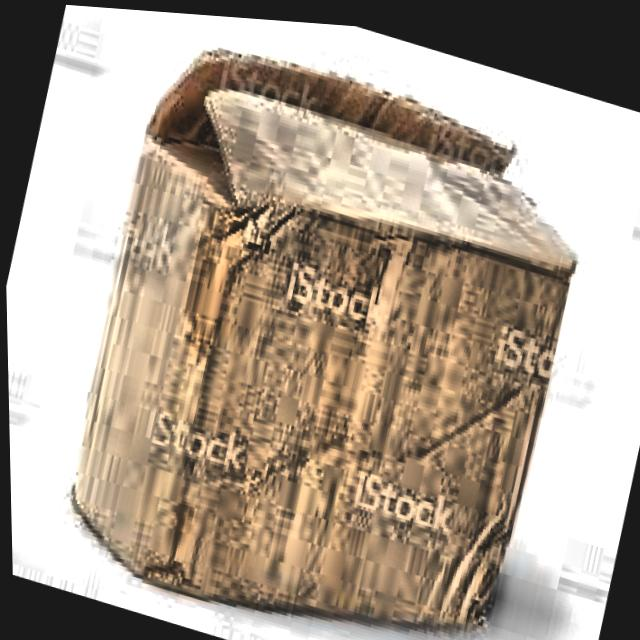Cardbox: (25, 1, 610, 640)
